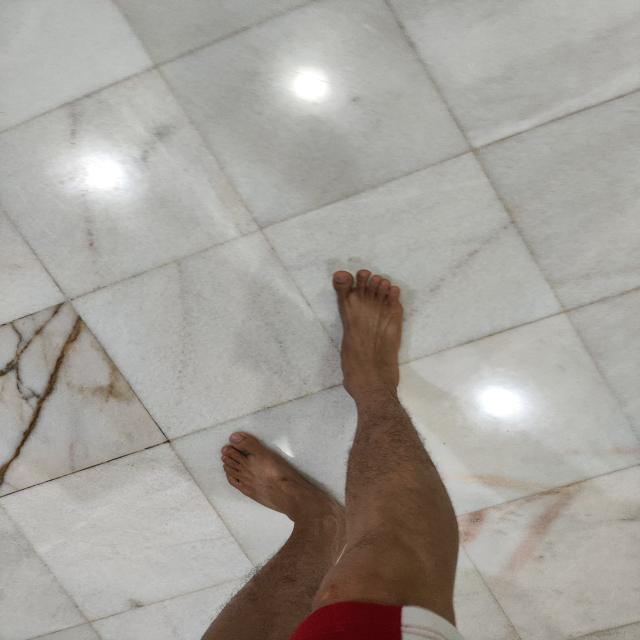No_Shoes: (297, 264, 446, 426), (205, 399, 357, 550)
